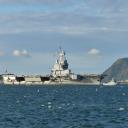Portanaves: (2, 43, 109, 88)
